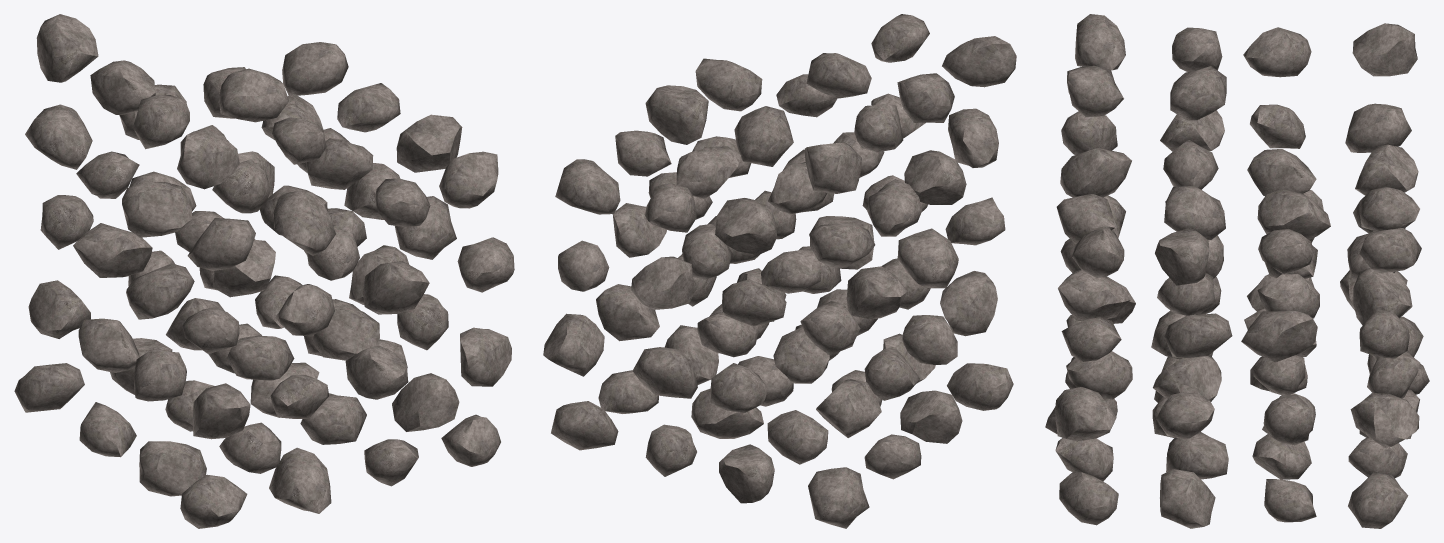
The model's file is FUN-PED-001_anim.glb.
The picture shows the model from 3 angles, left to right: view 1: azimuth 30°, elevation 25°; view 2: azimuth 150°, elevation 25°; view 3: azimuth 270°, elevation 25°; orthographic projection. The views are drawn at different scales.
Parts seen in each view (by area): view 1: FUN-PED-001_anim49, FUN-PED-001_anim67, FUN-PED-001_anim34, FUN-PED-001_anim1, FUN-PED-001_anim4, FUN-PED-001_anim61, FUN-PED-001_anim13, FUN-PED-001_anim69, FUN-PED-001_anim51, FUN-PED-001_anim52, FUN-PED-001_anim63, FUN-PED-001_anim64 (+50 smaller); view 2: FUN-PED-001_anim61, FUN-PED-001_anim16, FUN-PED-001_anim64, FUN-PED-001_anim3, FUN-PED-001_anim55, FUN-PED-001_anim33, FUN-PED-001_anim57, FUN-PED-001_anim31, FUN-PED-001_anim43, FUN-PED-001_anim63, FUN-PED-001_anim1, FUN-PED-001_anim49 (+50 smaller); view 3: FUN-PED-001_anim46, FUN-PED-001_anim67, FUN-PED-001_anim52, FUN-PED-001_anim31, FUN-PED-001_anim28, FUN-PED-001_anim13, FUN-PED-001_anim40, FUN-PED-001_anim58, FUN-PED-001_anim66, FUN-PED-001_anim51, FUN-PED-001_anim57, FUN-PED-001_anim69 (+39 smaller).
Part boxes in pixels (x1=…): FUN-PED-001_anim49: x1=122, y1=181, x2=192, y2=237; FUN-PED-001_anim67: x1=36, y1=14, x2=98, y2=82; FUN-PED-001_anim34: x1=73, y1=223, x2=152, y2=277; FUN-PED-001_anim1: x1=139, y1=441, x2=206, y2=496; FUN-PED-001_anim4: x1=269, y1=447, x2=331, y2=513; FUN-PED-001_anim61: x1=396, y1=114, x2=462, y2=172; FUN-PED-001_anim13: x1=392, y1=373, x2=459, y2=431; FUN-PED-001_anim69: x1=219, y1=68, x2=288, y2=122; FUN-PED-001_anim51: x1=25, y1=104, x2=92, y2=169; FUN-PED-001_anim52: x1=273, y1=191, x2=335, y2=255; FUN-PED-001_anim63: x1=282, y1=42, x2=348, y2=95; FUN-PED-001_anim64: x1=177, y1=128, x2=239, y2=189; FUN-PED-001_anim61: x1=645, y1=85, x2=708, y2=144; FUN-PED-001_anim16: x1=940, y1=271, x2=997, y2=336; FUN-PED-001_anim64: x1=942, y1=36, x2=1016, y2=87; FUN-PED-001_anim3: x1=808, y1=467, x2=869, y2=528; FUN-PED-001_anim55: x1=715, y1=198, x2=777, y2=254; FUN-PED-001_anim33: x1=897, y1=228, x2=958, y2=288; FUN-PED-001_anim57: x1=734, y1=106, x2=793, y2=166; FUN-PED-001_anim31: x1=543, y1=313, x2=604, y2=376; FUN-PED-001_anim43: x1=631, y1=256, x2=696, y2=309; FUN-PED-001_anim63: x1=555, y1=159, x2=620, y2=214; FUN-PED-001_anim1: x1=900, y1=390, x2=962, y2=443; FUN-PED-001_anim49: x1=904, y1=150, x2=966, y2=204; FUN-PED-001_anim46: x1=1241, y1=310, x2=1317, y2=362; FUN-PED-001_anim67: x1=1352, y1=23, x2=1417, y2=76; FUN-PED-001_anim52: x1=1060, y1=148, x2=1131, y2=197; FUN-PED-001_anim31: x1=1350, y1=393, x2=1419, y2=447; FUN-PED-001_anim28: x1=1055, y1=387, x2=1116, y2=441; FUN-PED-001_anim13: x1=1160, y1=469, x2=1215, y2=528; FUN-PED-001_anim40: x1=1058, y1=269, x2=1130, y2=320; FUN-PED-001_anim58: x1=1257, y1=189, x2=1330, y2=239; FUN-PED-001_anim66: x1=1243, y1=27, x2=1311, y2=77; FUN-PED-001_anim51: x1=1345, y1=103, x2=1411, y2=152; FUN-PED-001_anim57: x1=1164, y1=186, x2=1225, y2=239; FUN-PED-001_anim69: x1=1170, y1=66, x2=1226, y2=120.
Bounding box in the file's own units: 1.04 × 1.17 × 1.07.
1 material, 1 textured.
